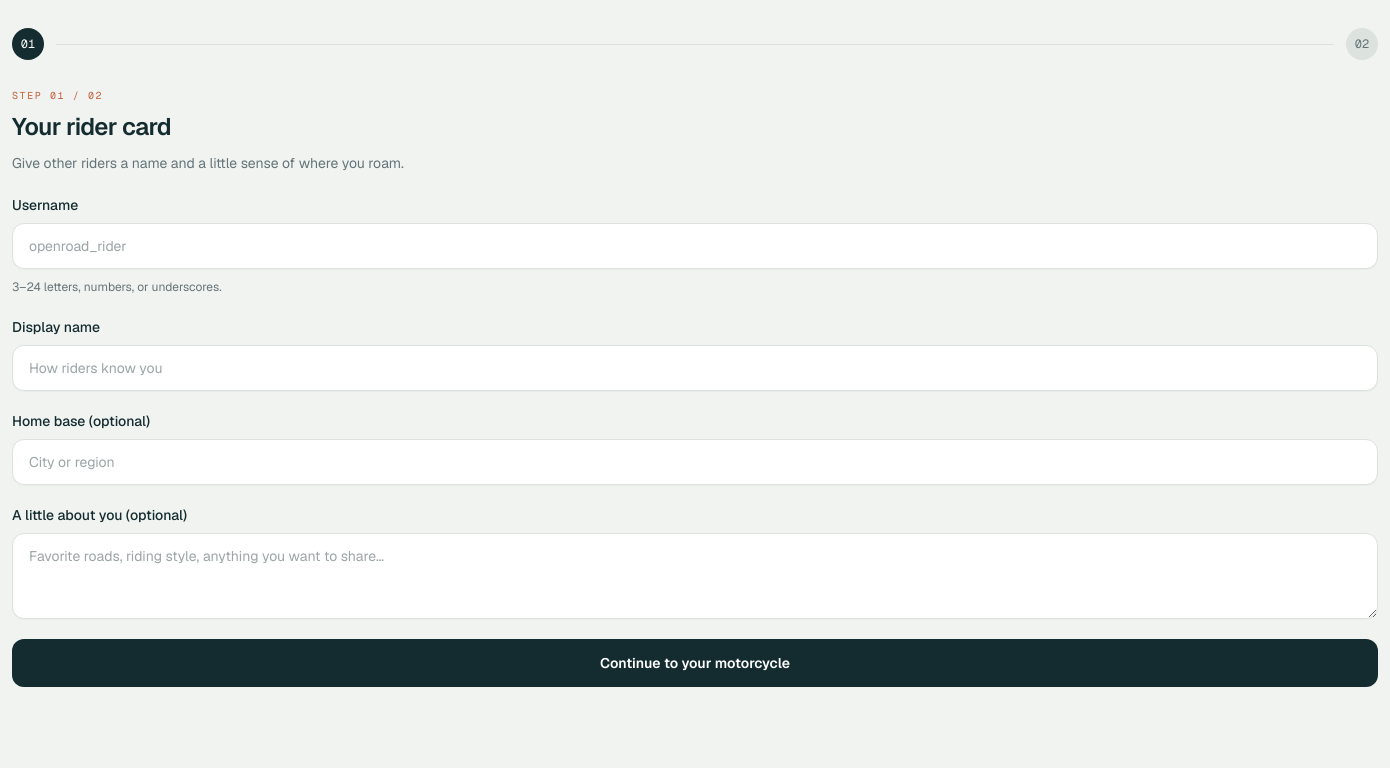
it: OnboardingForm › validates the required rider card before showing the optional motorcycle step
What coordinates should you click on to do the following:
click the button "Continue to your motorcycle"
I would click on:
 (695, 663)
Its box is [12,639,1378,687].
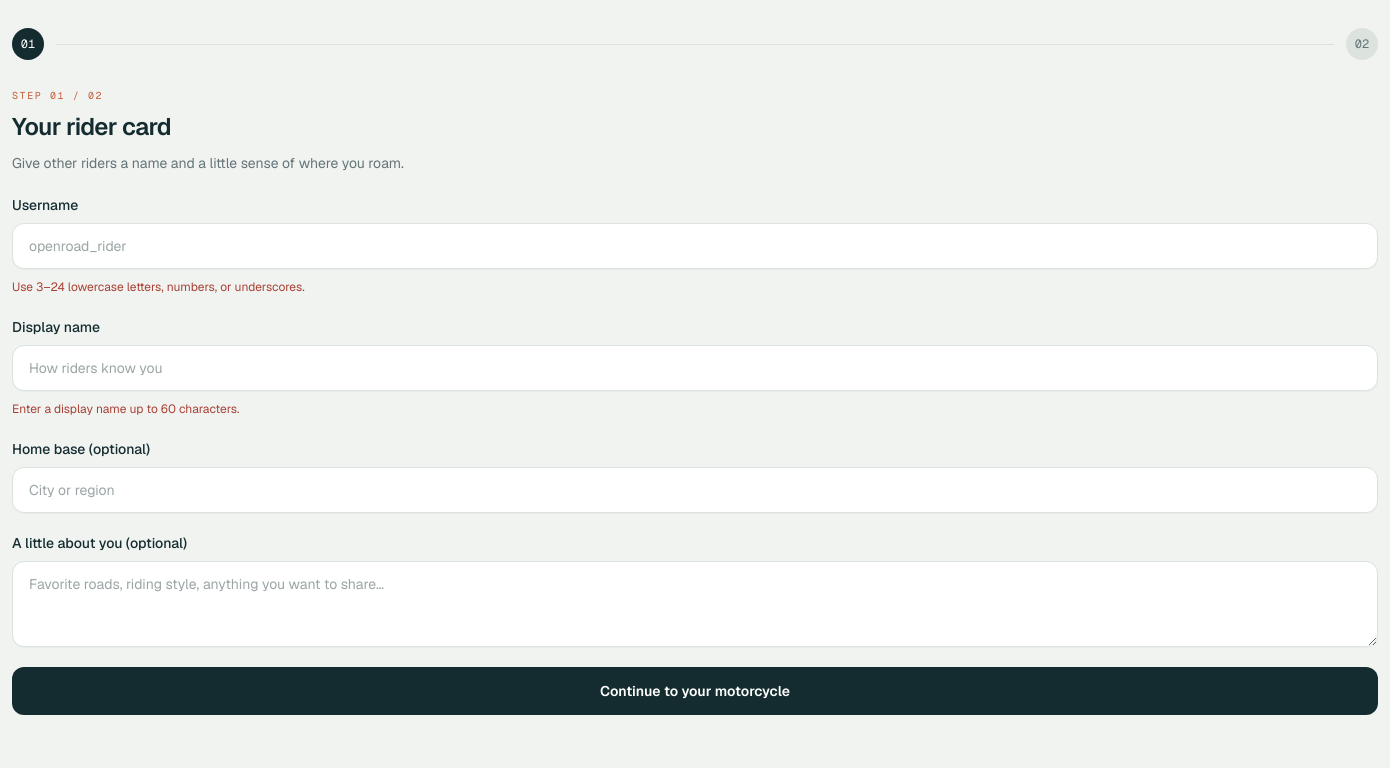
Expected: the text "Use 3–24 lowercase letters, numbers, or underscores." is shown, [12,279,305,295]
